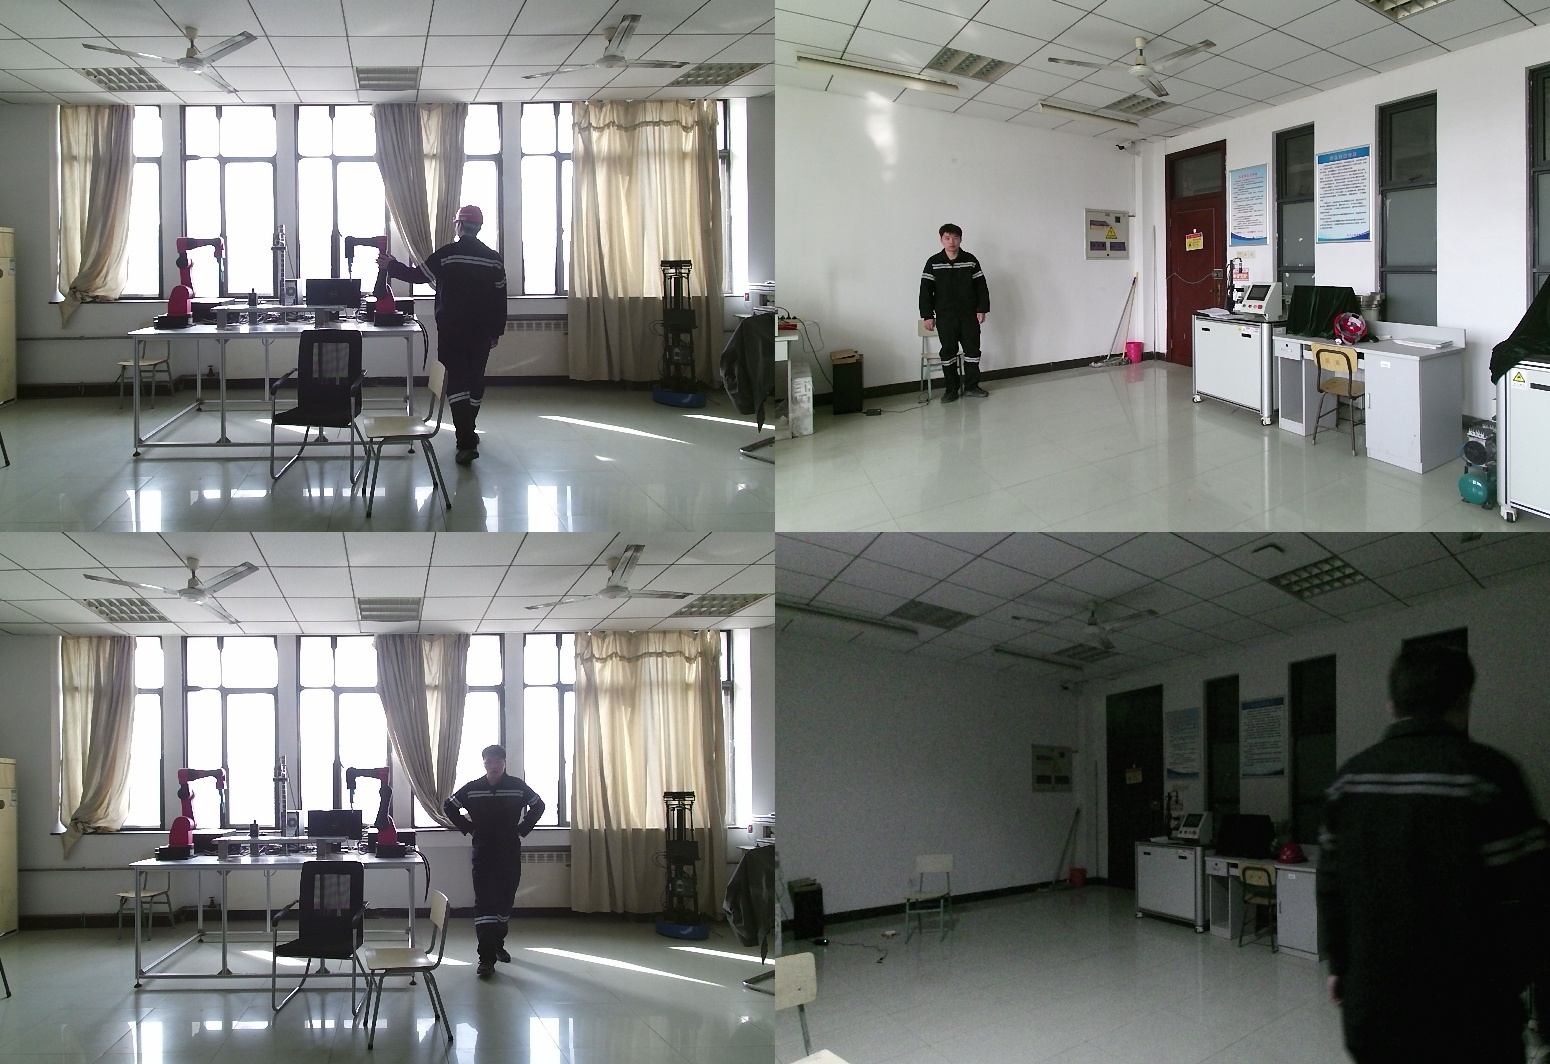person: (1322, 631, 1550, 1064), (379, 204, 520, 471), (442, 745, 547, 982), (919, 226, 994, 405)
